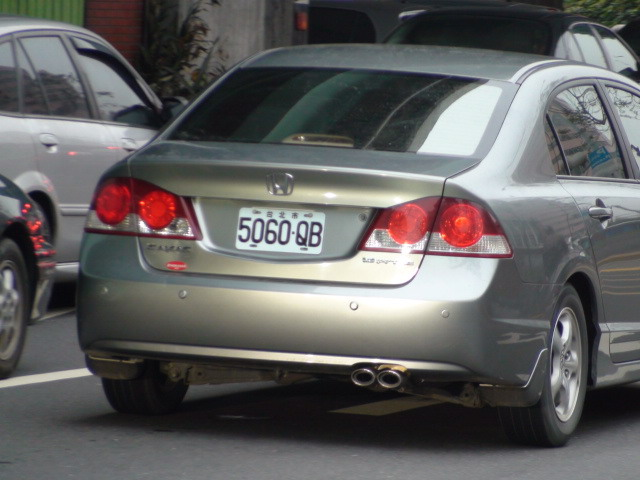plate: (234, 203, 326, 255)
